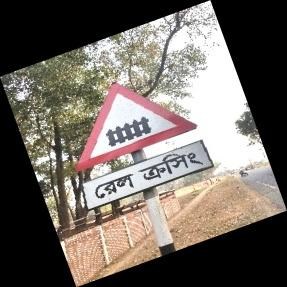Rail-crossing: (74, 83, 213, 215)
